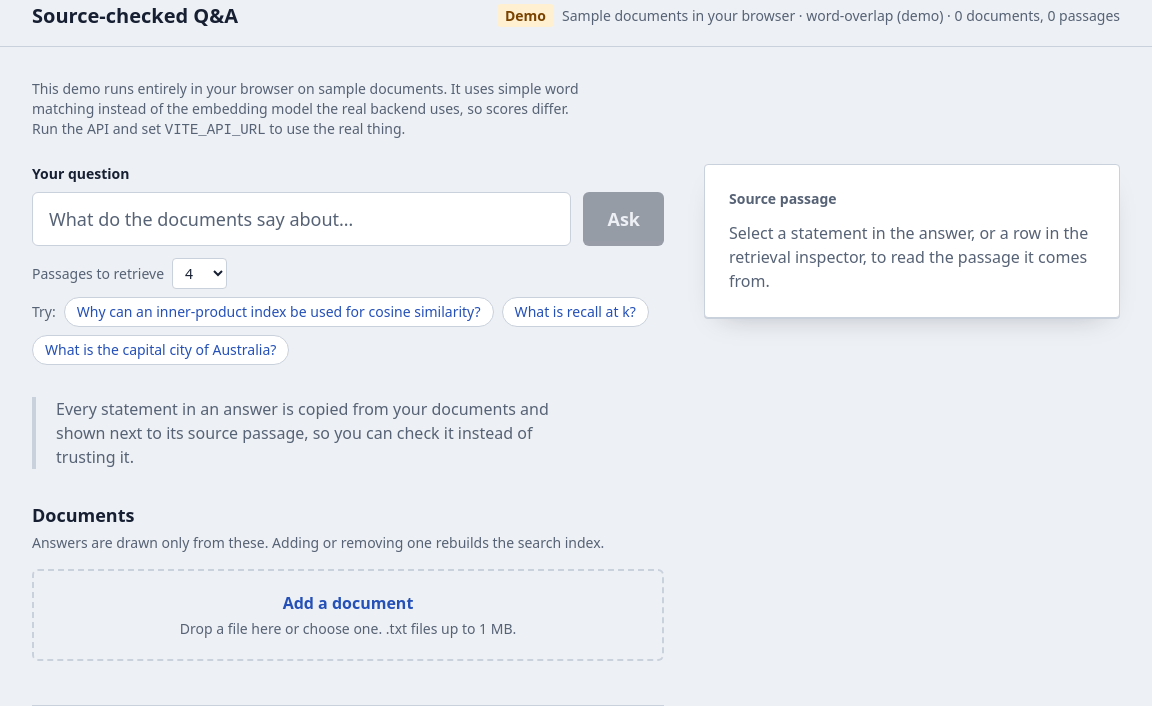
when the documents do not answer › says so, hides the statements and marks nothing until asked
In the field labelled "Your question": (302, 219) top-left (32, 192), bottom-right (572, 246), type "What is the capital city of Australia?"
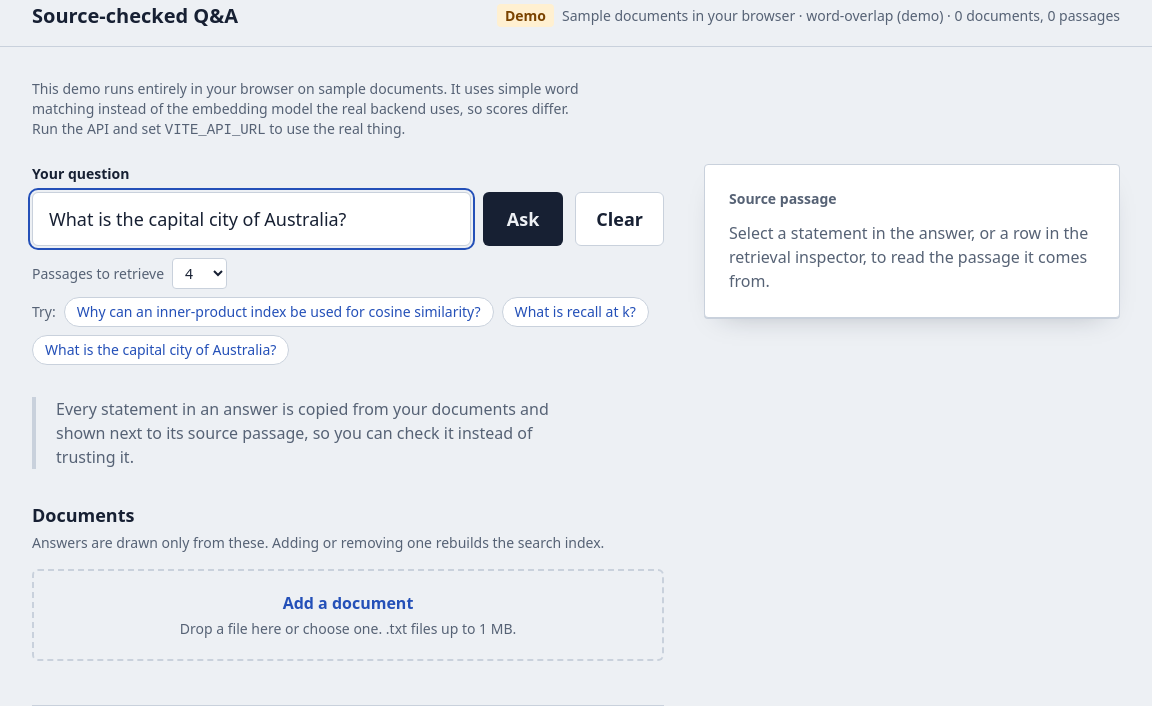
Click the button "Ask": click(523, 219) top-left (483, 192), bottom-right (563, 246)
(page scrolled)
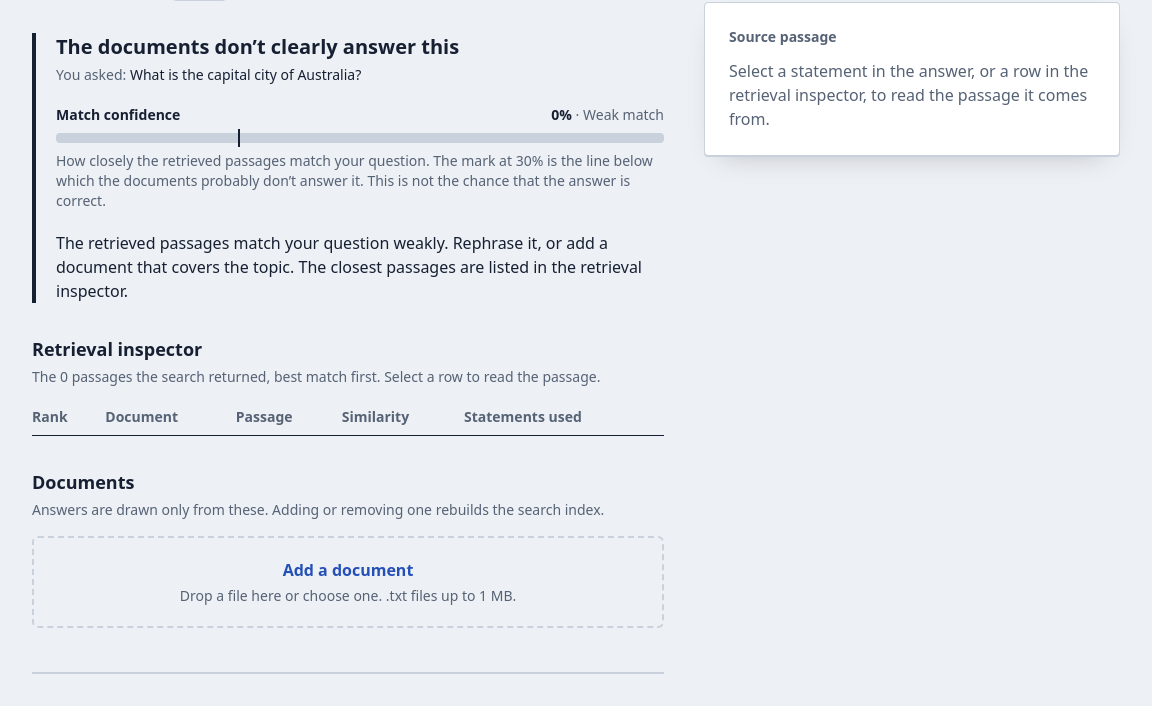
Expected: the heading "The documents don’t clearly answer this" is shown, top-left (56, 33), bottom-right (459, 60)
Expected: the table named "Passages retrieved" is shown, top-left (32, 399), bottom-right (664, 436)
